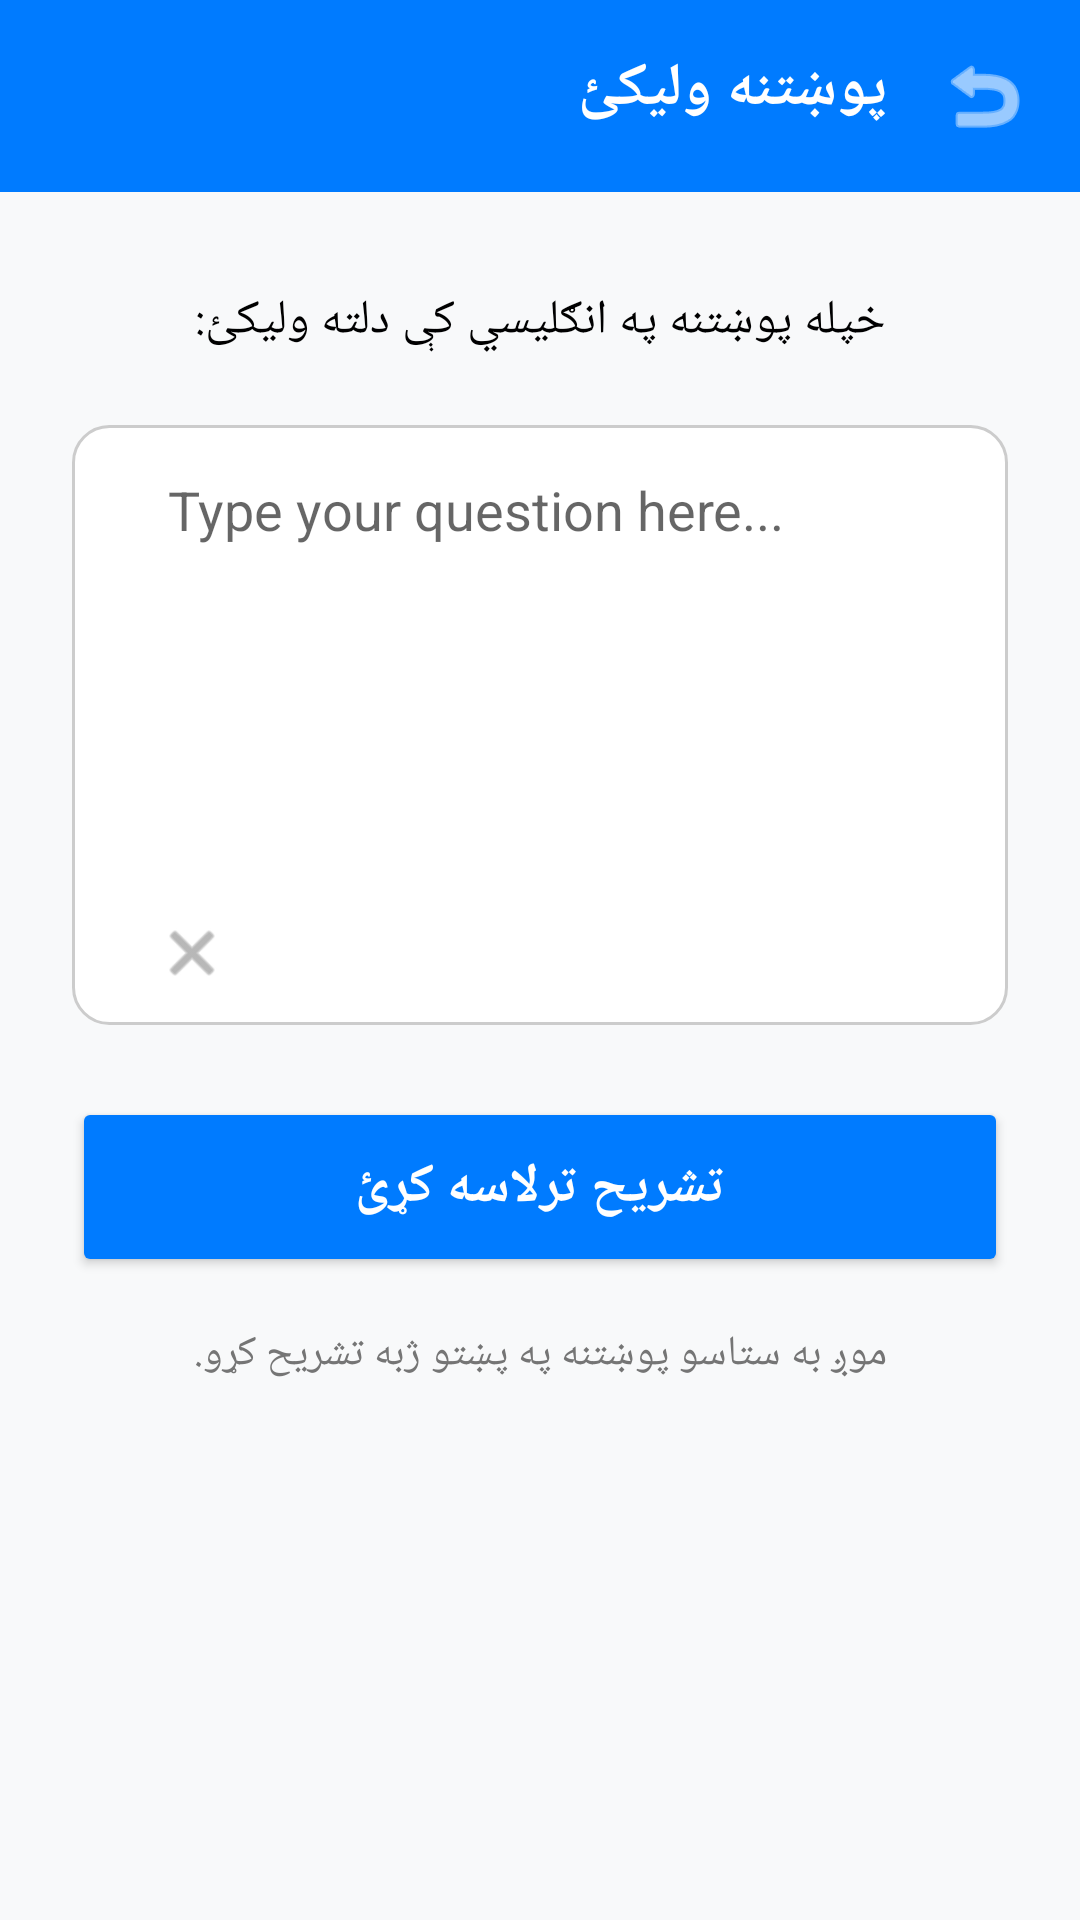

Icons on this 1080 x 1920 Android screen, each with its box as [x1=x1, y1=y1, x2=x2, y2=y2]:
close clear cancel: [x1=170, y1=931, x2=214, y2=975]
revert: [x1=951, y1=65, x2=1020, y2=128]
